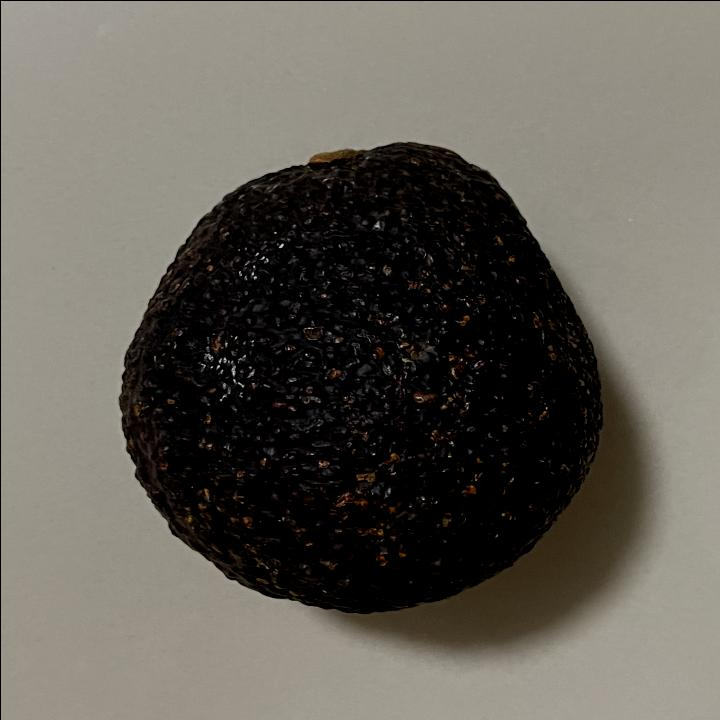Level3: (102, 130, 612, 621)
